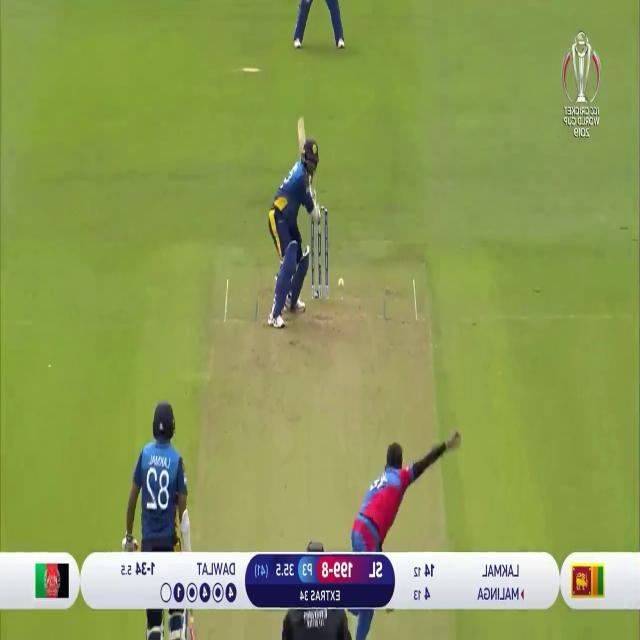ball: (335, 274, 347, 290)
